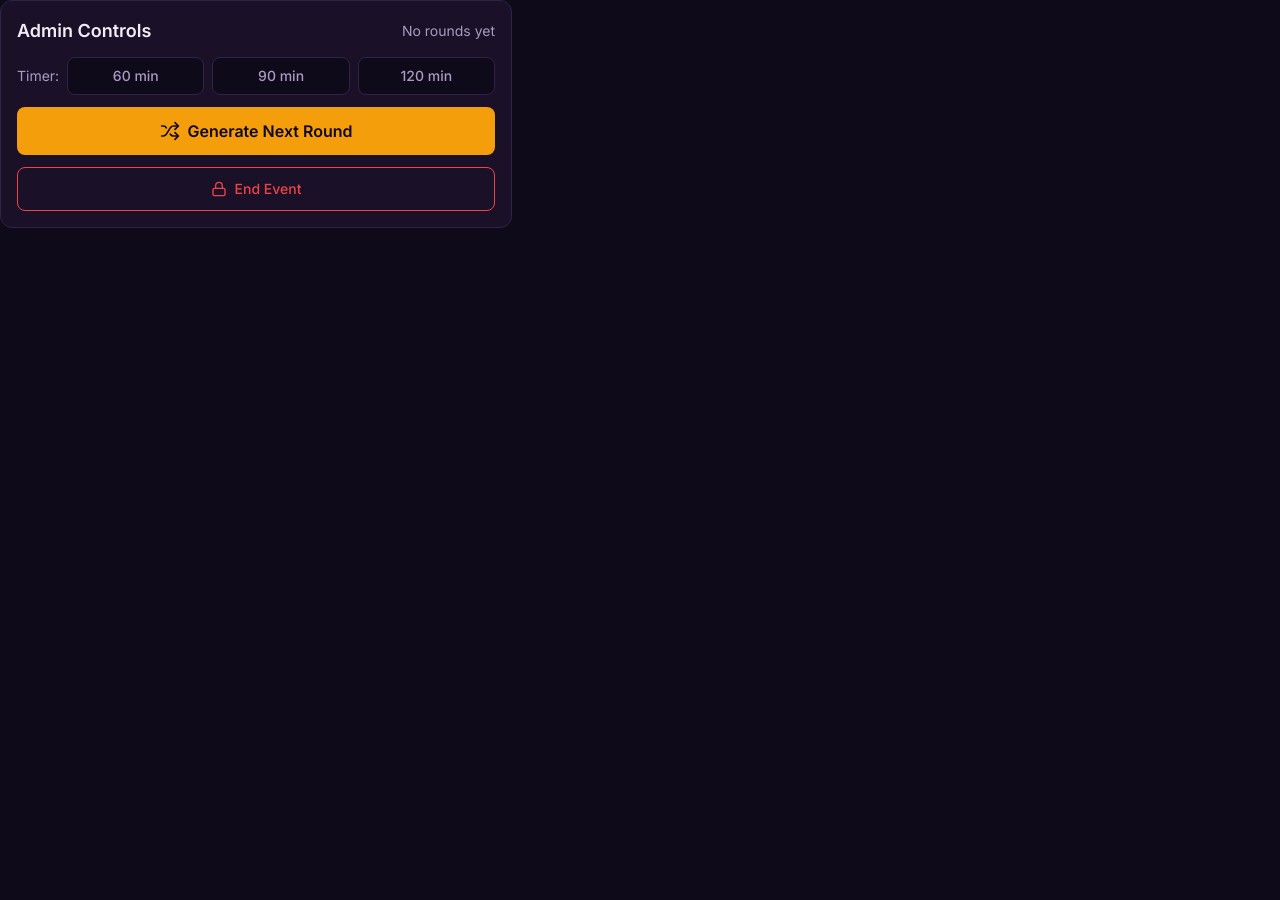
Test case: AdminControls › cancel button closes the end event confirm dialog
The width and height of the screenshot is (1280, 900).
Click the button with test id "end-event-btn" at (256, 189), box [17, 167, 495, 211]
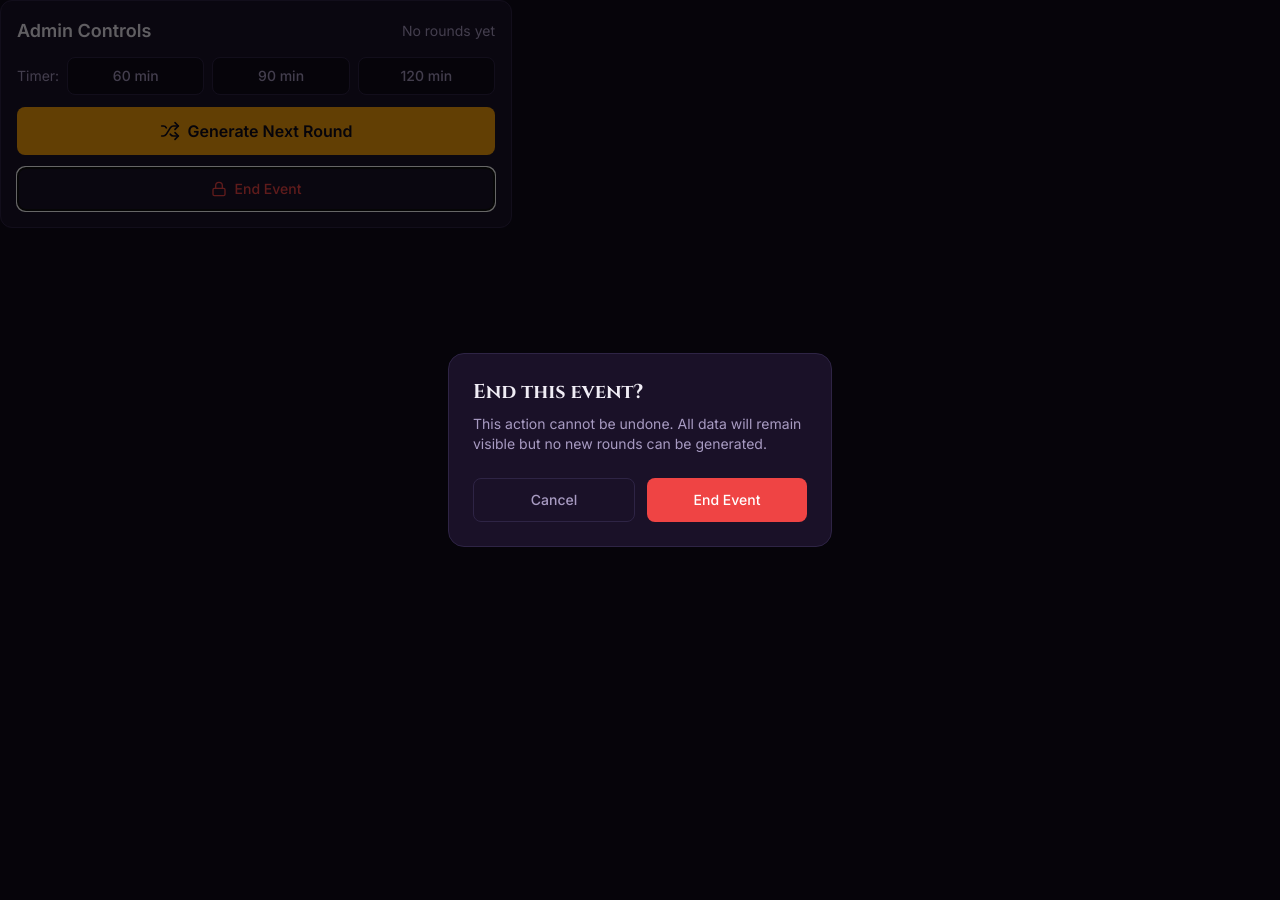
Check: the element with test id "confirm-dialog" is shown
Click the button with test id "confirm-dialog-cancel-btn" at (554, 500), box [473, 478, 635, 522]
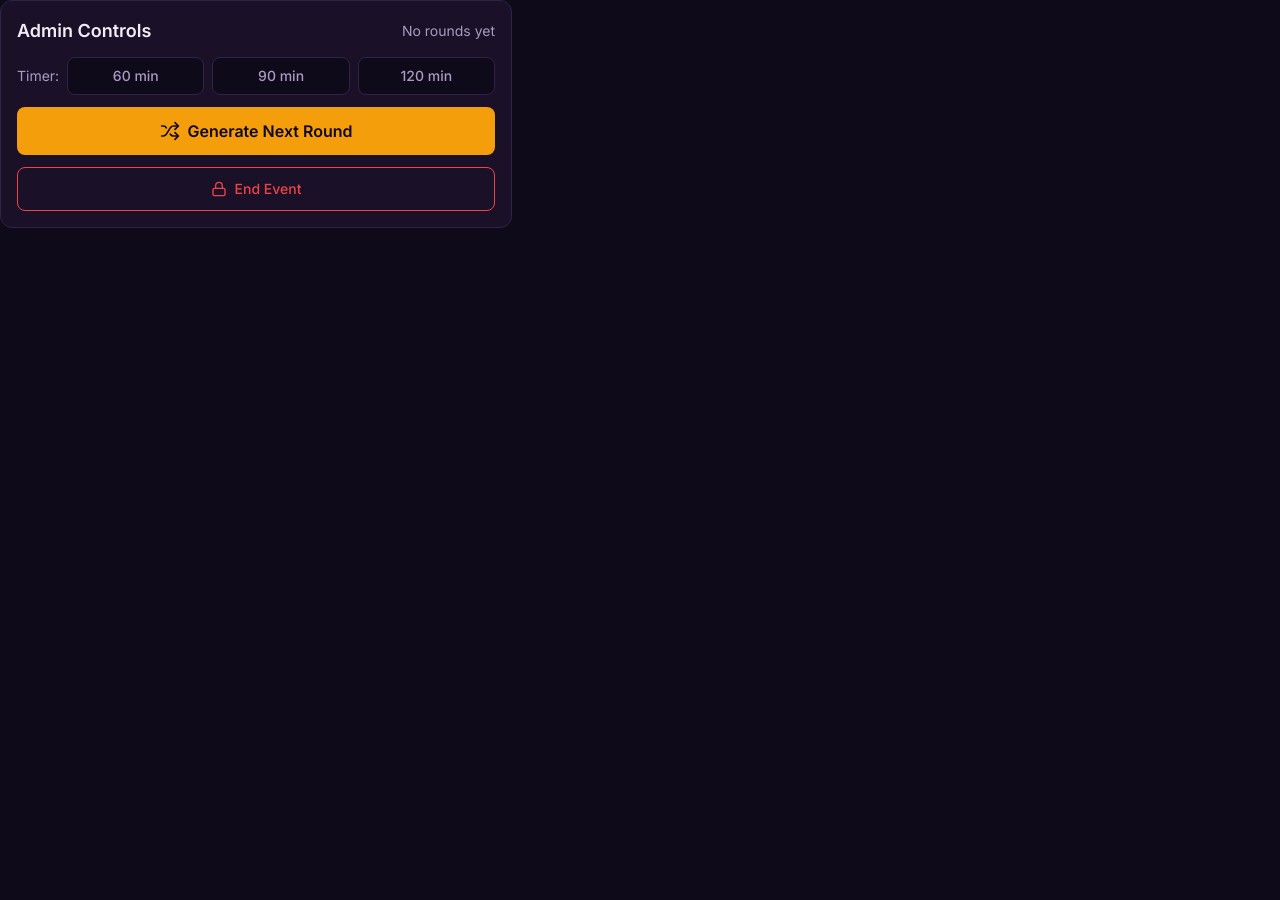
Check: the element with test id "confirm-dialog" is gone
